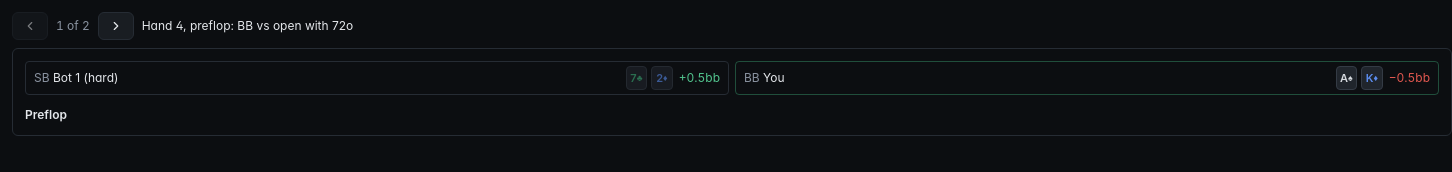
flicking through a weakness › steps through the hands behind a finding
Check: the text "1 of 2" is shown, box [56, 18, 90, 34]
Check: the text "Hand 4, preflop: BB vs open with 72o" is shown, box [142, 18, 353, 34]
Click the button named "Next hand" at x=116, y=26, box [98, 12, 134, 40]
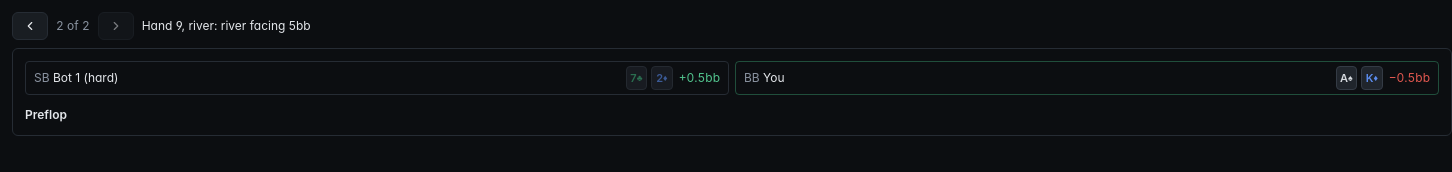
Check: the text "Hand 9, river: river facing 5bb" is shown, box [142, 18, 311, 34]
